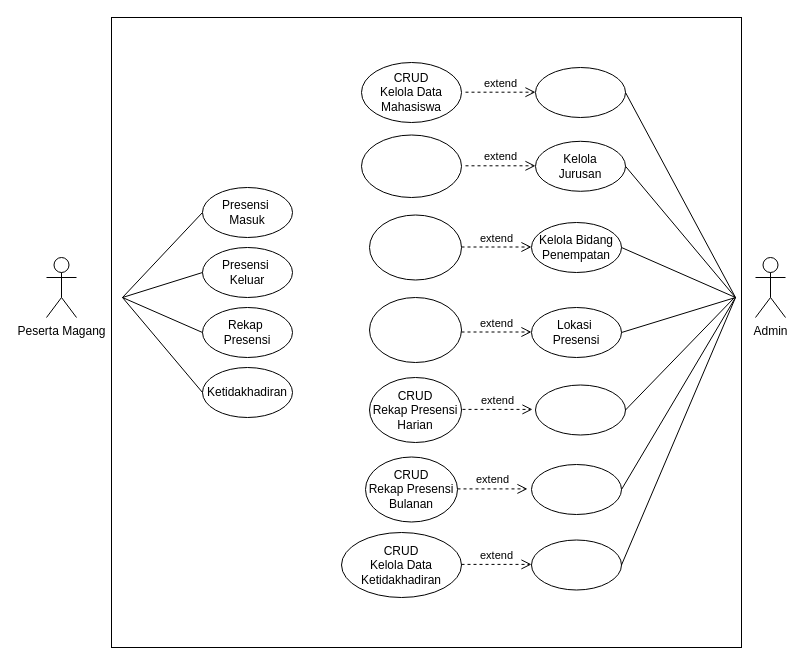
Some shapes in this 804 by 665 pixel diagram are drawn without their labels. Here are the shapes that lost their labels. From the top down, the centre of each, then its label:
At point (580, 92): "Kelola Data Mahasiswa".
At point (411, 166): "CRUD Kelola Jurusan".
At point (415, 247): "CRUD Kelola Bidang Penempatan".
At point (415, 329): "CRUD Lokasi Presensi".
At point (580, 409): "Rekap Presensi Harian".
At point (576, 489): "Rekap Presensi Bulanan".
At point (576, 564): "Kelola Data Ketidakhadiran".
